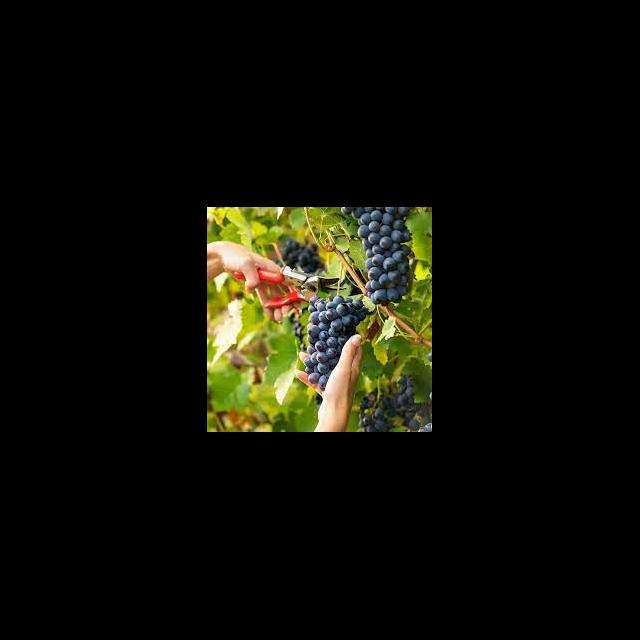grape: (341, 208, 416, 306), (304, 294, 371, 390)
